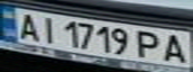1: (57, 18, 81, 47), (93, 23, 112, 53)
7: (75, 20, 96, 51)
9: (109, 25, 133, 56)
A: (160, 31, 193, 64), (15, 10, 42, 42)
I: (36, 15, 60, 44)
P: (133, 28, 166, 61)
